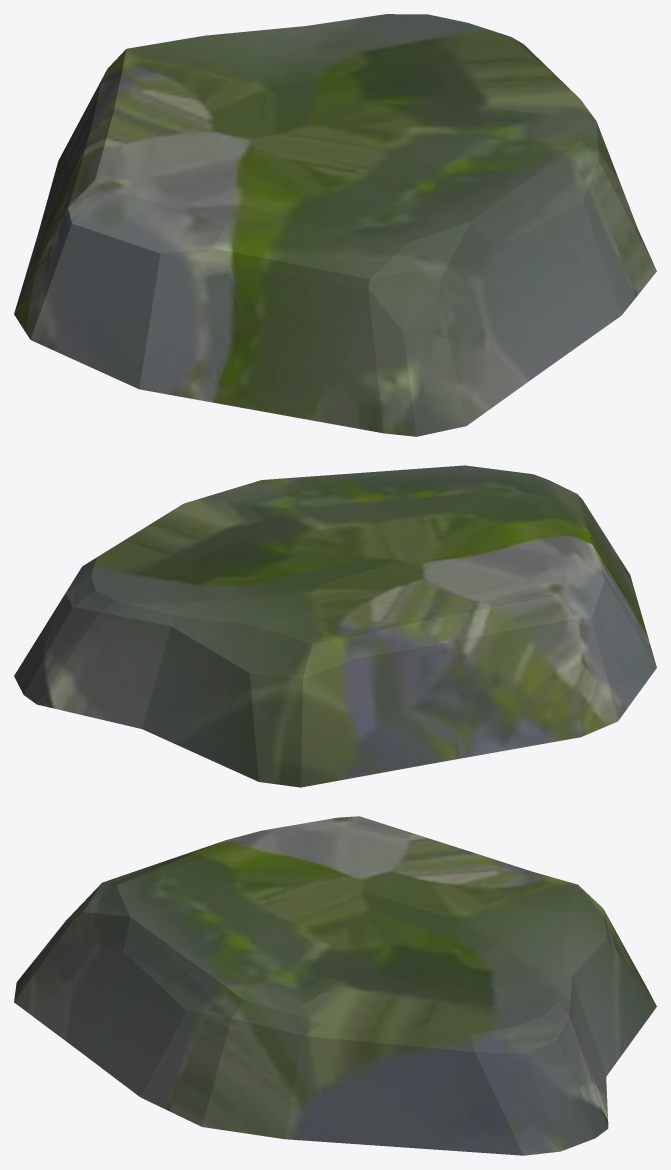
The model's file is Pebble_Round_3.gltf.
3 views of the same model, one above another, from view 1: azimuth 30°, elevation 25°; view 2: azimuth 150°, elevation 25°; view 3: azimuth 270°, elevation 25° (orthographic). The views are drawn at different scales.
Visible parts, largest first — view 1: Pebble_Round_3; view 2: Pebble_Round_3; view 3: Pebble_Round_3.
Part boxes in pixels (<box>): Pebble_Round_3: <box>14,14,656,436</box>; Pebble_Round_3: <box>14,465,656,787</box>; Pebble_Round_3: <box>14,816,656,1155</box>.
Size of the model in its own units: 0.4497 by 0.0986 by 0.4848.
Materials: 1 (1 with a texture image).
